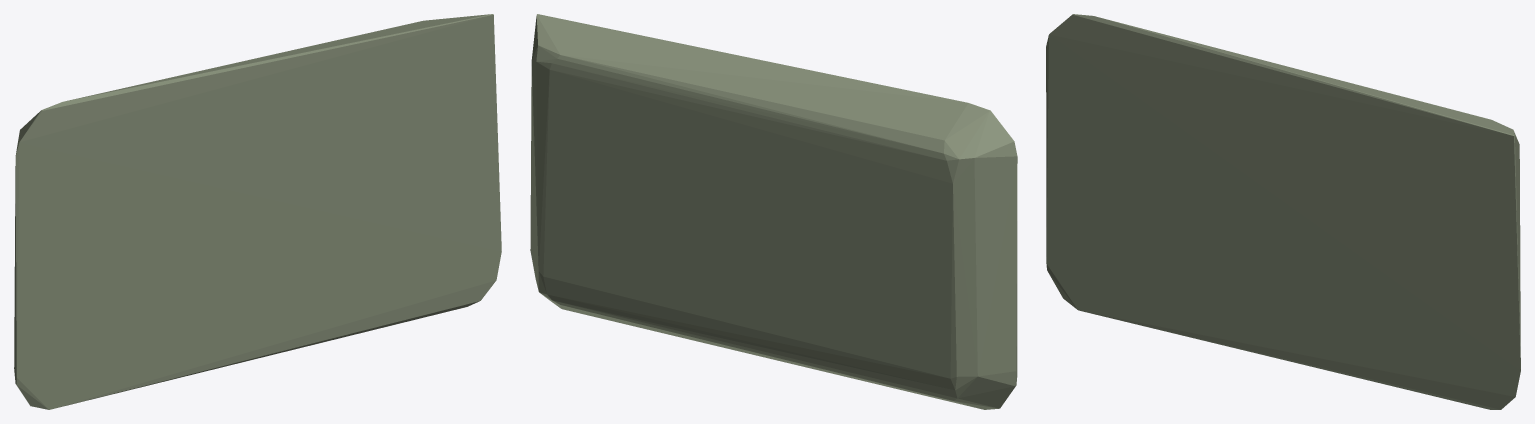
The model's file is container_system_sterilising_b02.glb.
3 renders of one model, left to right at view 1: azimuth 30°, elevation 25°; view 2: azimuth 150°, elevation 25°; view 3: azimuth 330°, elevation 25°, orthographic. The views are drawn at different scales.
Visible parts, largest first — view 1: geometry_0; view 2: geometry_0; view 3: geometry_0.
Boxes of the visible parts, <box> form: geometry_0: <box>14,14,501,409</box>; geometry_0: <box>530,14,1017,409</box>; geometry_0: <box>1046,14,1520,409</box>.
Bounding box in the file's own units: 0.479 × 0.2865 × 0.0449.
